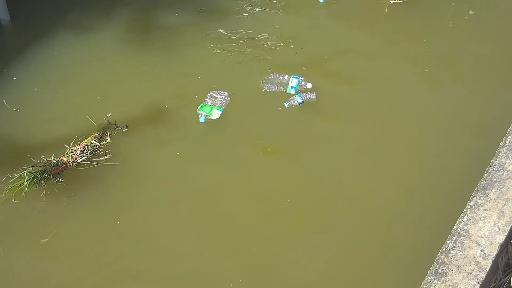plastic: (192, 88, 237, 123), (264, 70, 314, 94), (273, 93, 322, 112), (317, 0, 326, 5)
twig: (13, 100, 147, 203)
